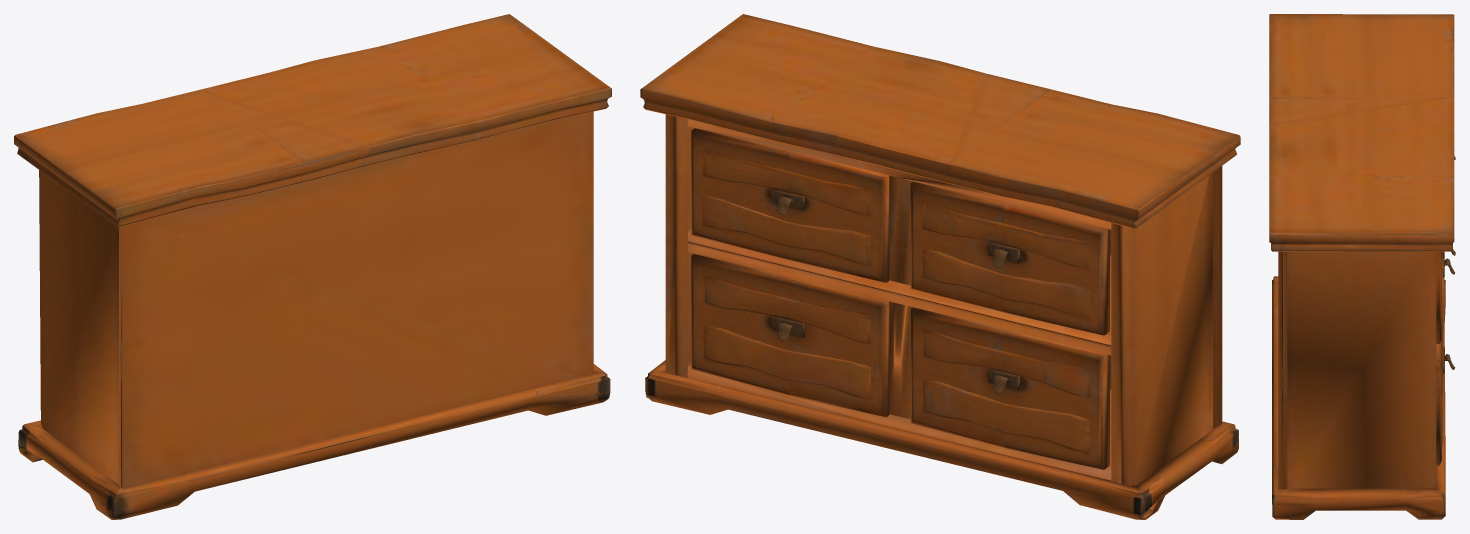
Rendered from mall-dresser-drawers.glb.
The picture shows the model from 3 angles, left to right: view 1: azimuth 30°, elevation 25°; view 2: azimuth 150°, elevation 25°; view 3: azimuth 270°, elevation 25°; orthographic projection. The views are drawn at different scales.
Visible parts, largest first — view 1: dresser-drawers; view 2: dresser-drawers; view 3: dresser-drawers.
Part boxes in pixels (bbox=[...]): dresser-drawers: bbox=[14, 14, 611, 519]; dresser-drawers: bbox=[640, 14, 1240, 519]; dresser-drawers: bbox=[1269, 14, 1455, 519].
Size of the model in its own units: 1.4 by 0.8502 by 0.5005.
1 material, 1 textured.
